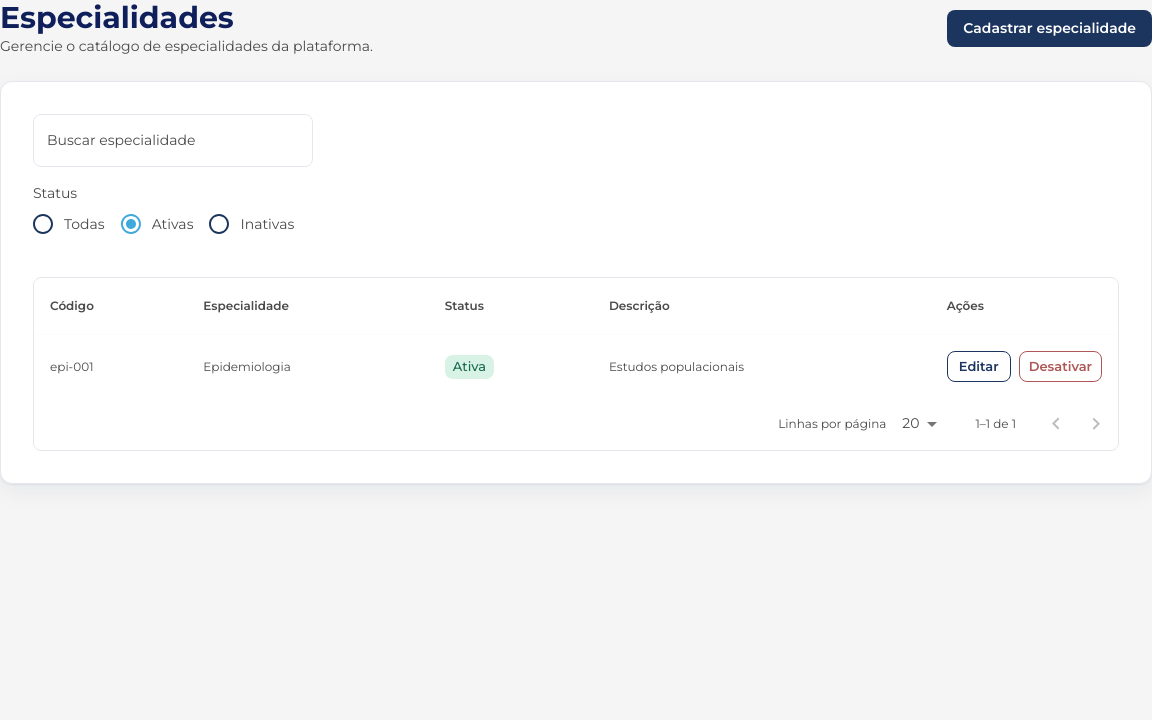
it: Specialties › mantém a confirmação após erro e remove do filtro ativo após uma nova tentativa bem-sucedida
Click the button "Desativar" at (1060, 367), box left=1019, top=351, right=1102, bottom=382
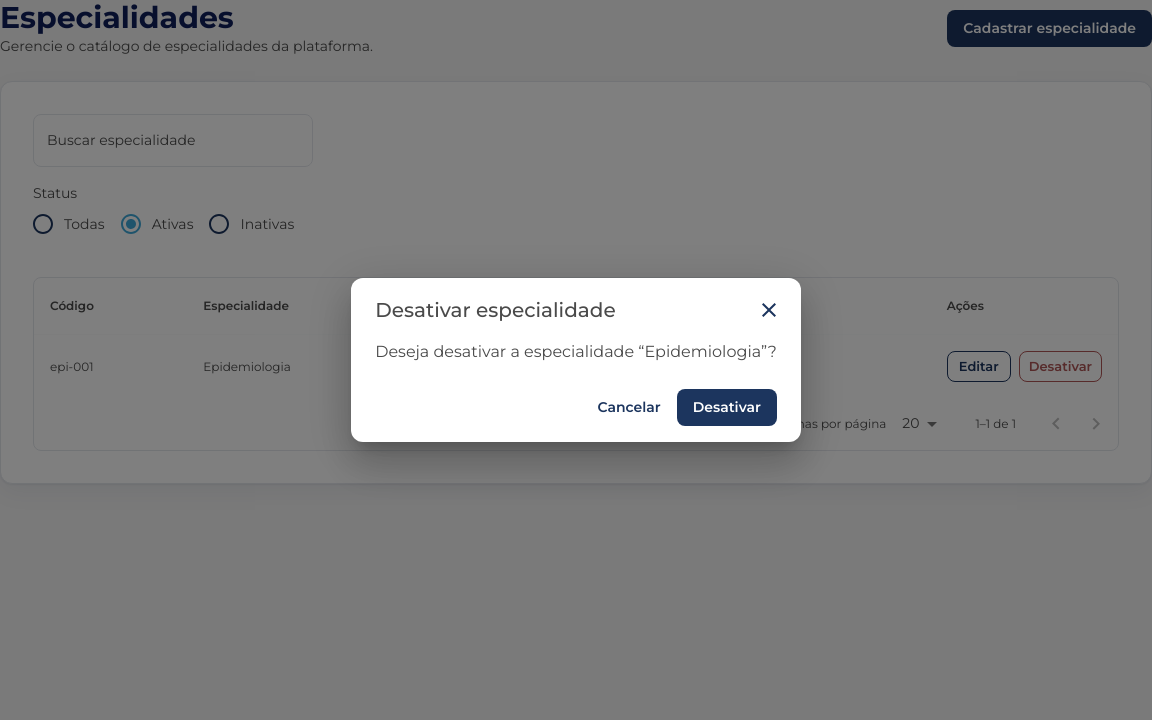
Click the button "Desativar" at (727, 408), box left=677, top=389, right=777, bottom=426
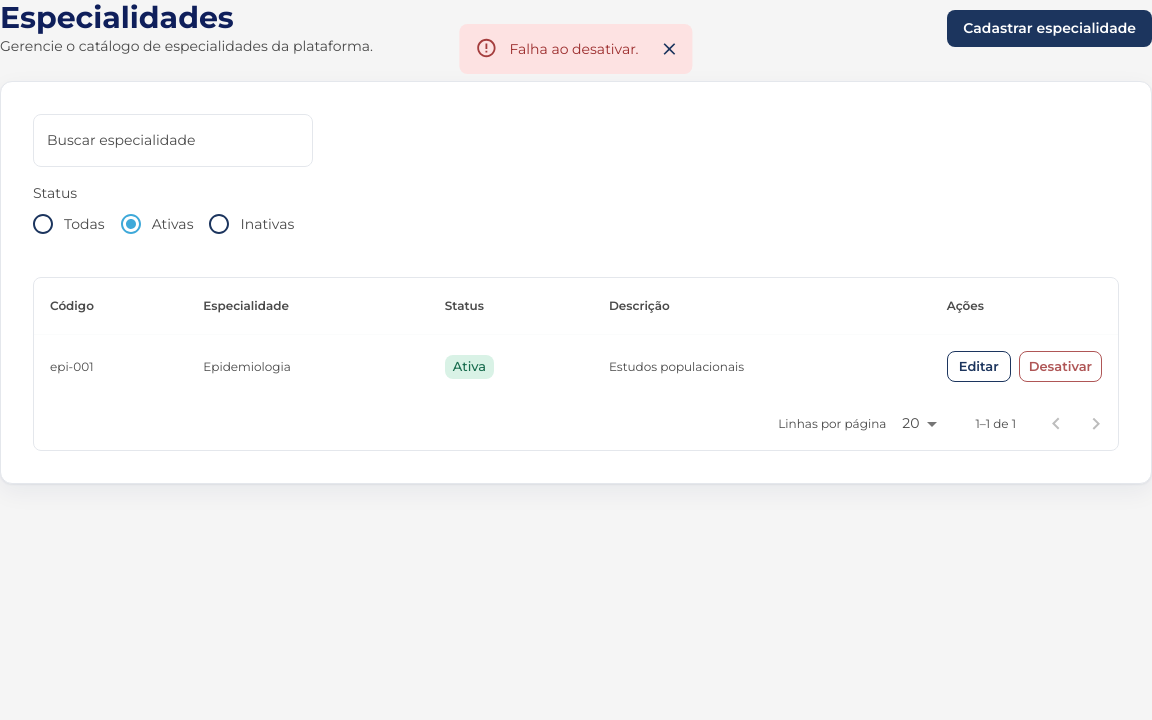
Result: the message reads "Falha ao desativar." at left=509, top=40, right=639, bottom=58
Result: the dialog is gone
Click the button "Desativar" at (1060, 367), box left=1019, top=351, right=1102, bottom=382
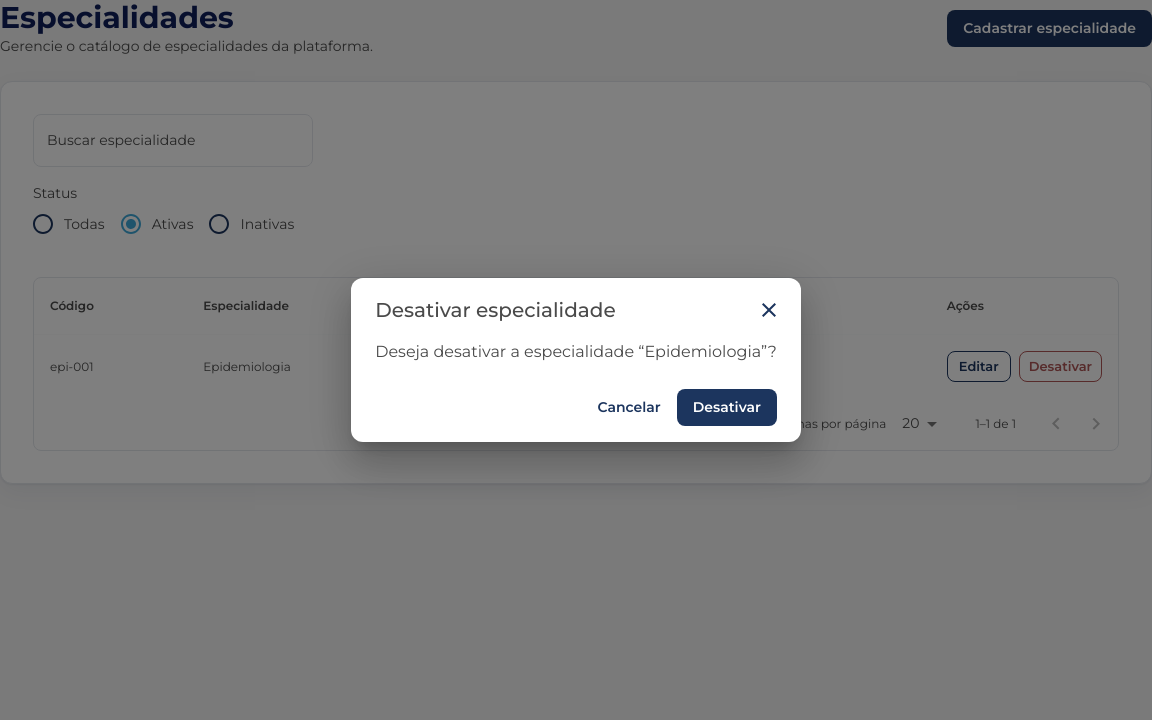
Click the button "Desativar" at (727, 408), box left=677, top=389, right=777, bottom=426
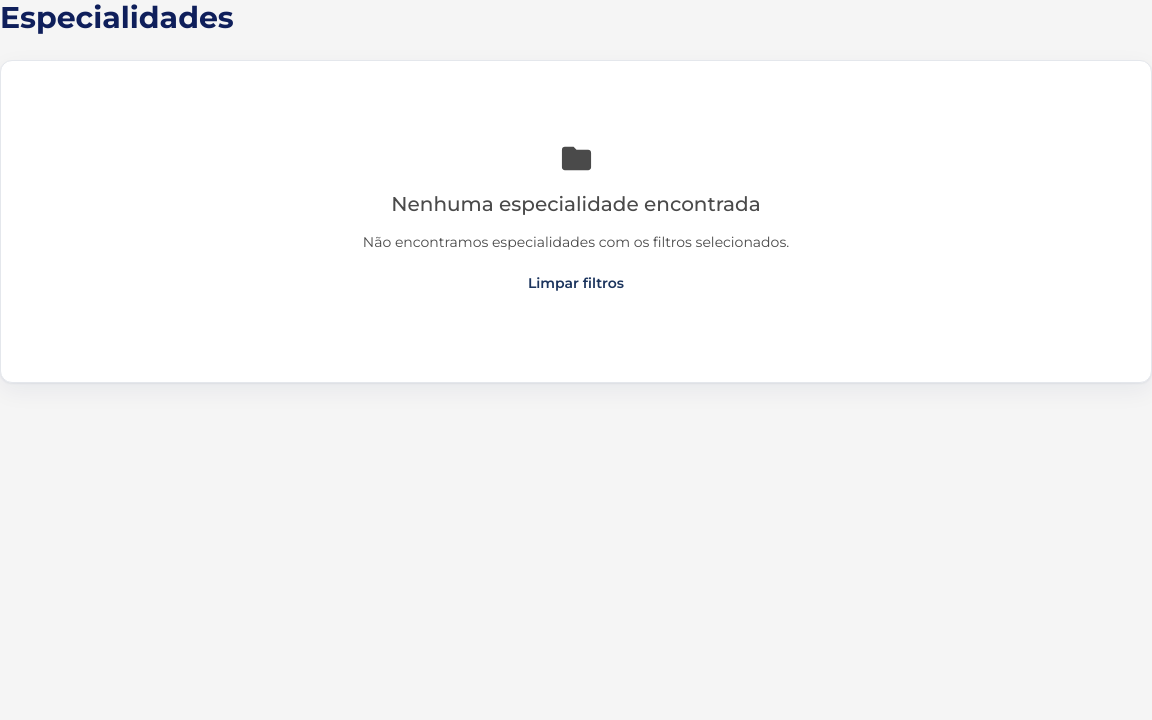
Result: the dialog is gone
Result: the heading "Nenhuma especialidade encontrada" is shown at left=391, top=188, right=761, bottom=220
Result: the text "Epidemiologia" is gone
